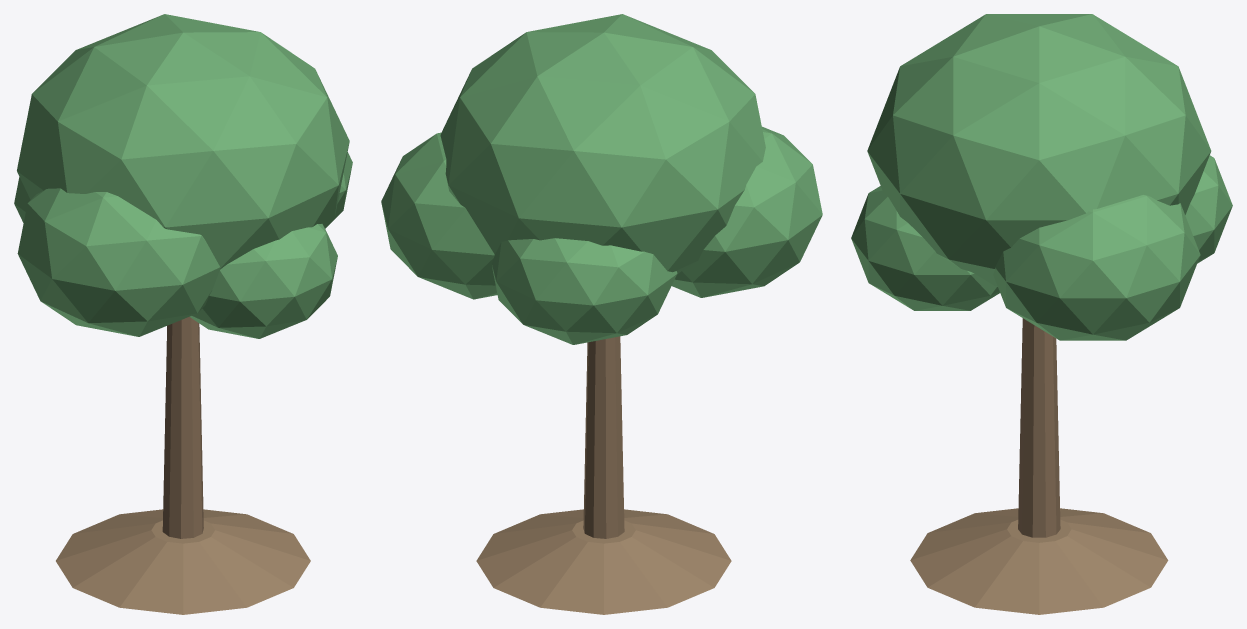
Rendered from bt-tree-park.glb.
3 views of the same model, side by side, from view 1: azimuth 30°, elevation 25°; view 2: azimuth 150°, elevation 25°; view 3: azimuth 270°, elevation 25° (orthographic).
Visible parts, largest first — view 1: canopy_0, canopy_2, skirt_dirt, canopy_3, trunk, canopy_1; view 2: canopy_0, skirt_dirt, canopy_4, canopy_2, canopy_1, trunk; view 3: canopy_0, canopy_1, skirt_dirt, canopy_3, trunk, canopy_4.
Boxes of the visible parts, x1,y1,x2,y2 form: canopy_0: [17, 14, 349, 269]; canopy_2: [17, 188, 220, 336]; skirt_dirt: [56, 509, 310, 614]; canopy_3: [190, 224, 337, 338]; trunk: [162, 316, 203, 538]; canopy_1: [325, 152, 352, 228]; canopy_0: [440, 14, 765, 274]; skirt_dirt: [476, 509, 731, 614]; canopy_4: [491, 238, 677, 344]; canopy_2: [671, 126, 822, 297]; canopy_1: [381, 132, 497, 299]; trunk: [583, 336, 624, 538]; canopy_0: [867, 14, 1211, 286]; canopy_1: [993, 194, 1200, 340]; skirt_dirt: [910, 508, 1168, 614]; canopy_3: [851, 186, 999, 310]; trunk: [1018, 318, 1060, 537]; canopy_4: [1185, 155, 1232, 263].
Bounding box in the file's own units: 3.85 × 5.48 × 3.55.
